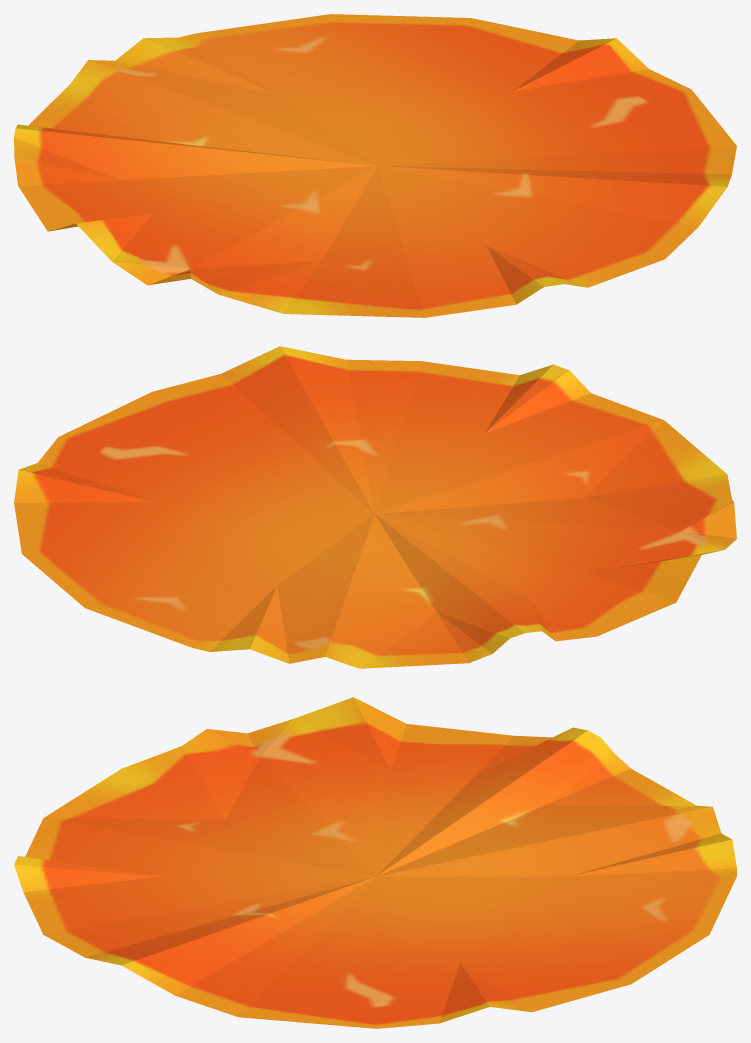
Rendered from 世界餐厅-食材-碎番茄汤底.FBX.
3 views of the same model, one above another, from view 1: azimuth 30°, elevation 25°; view 2: azimuth 150°, elevation 25°; view 3: azimuth 270°, elevation 25° (orthographic).
Parts seen in each view (by area): view 1: 世界餐厅-食材-碎番茄汤底; view 2: 世界餐厅-食材-碎番茄汤底; view 3: 世界餐厅-食材-碎番茄汤底.
Boxes of the visible parts, x1=… form: 世界餐厅-食材-碎番茄汤底: x1=14, y1=14, x2=736, y2=317; 世界餐厅-食材-碎番茄汤底: x1=14, y1=346, x2=736, y2=668; 世界餐厅-食材-碎番茄汤底: x1=14, y1=697, x2=736, y2=1028.
Size of the model in its own units: 40.39 by 2.13 by 40.46.
1 material, 1 textured.
